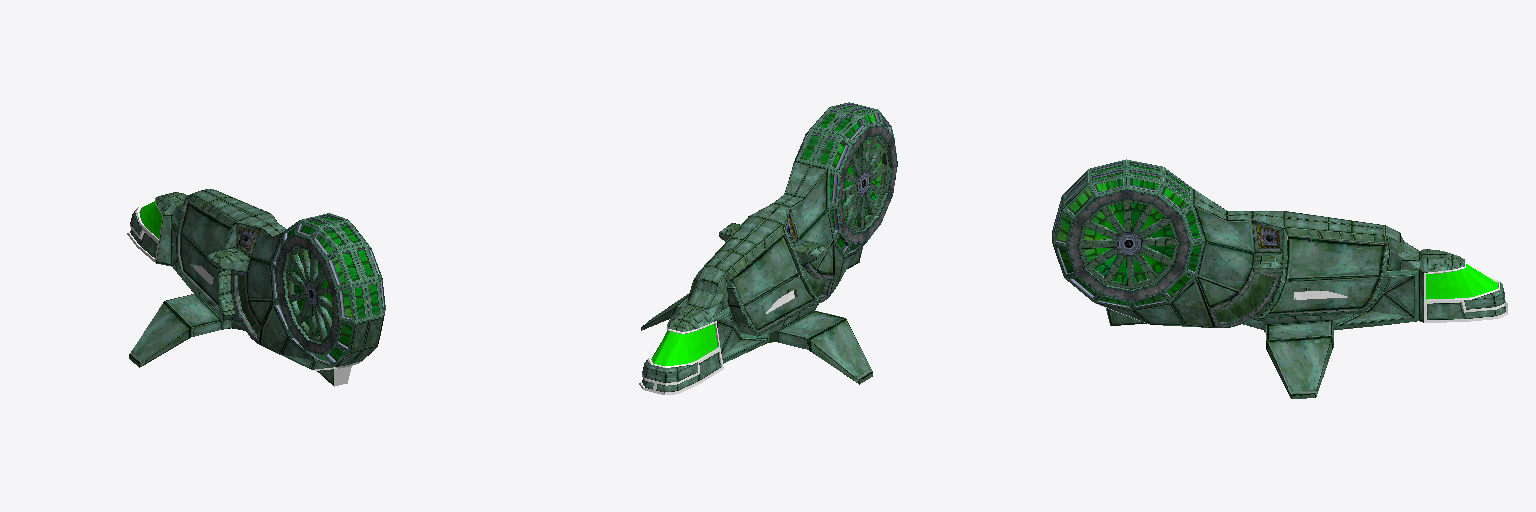
The picture shows the model from 3 angles: view 1: azimuth 30°, elevation 25°; view 2: azimuth 150°, elevation 25°; view 3: azimuth 270°, elevation 25°; orthographic projection.
Parts seen in each view (by area): view 1: polySurface1_polySurface947.001; view 2: polySurface1_polySurface947.001; view 3: polySurface1_polySurface947.001.
Part boxes in pixels (x1,y1,x2,y2): polySurface1_polySurface947.001: (127, 189, 385, 386); polySurface1_polySurface947.001: (639, 102, 897, 394); polySurface1_polySurface947.001: (1052, 159, 1507, 398).
Size of the model in its own units: 10.89 by 8.34 by 19.34.
Materials: 8 (3 with a texture image).